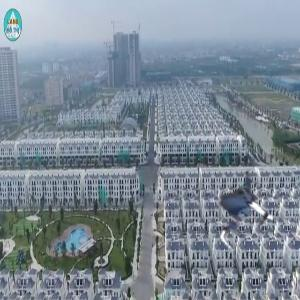drone: (202, 170, 287, 255)
